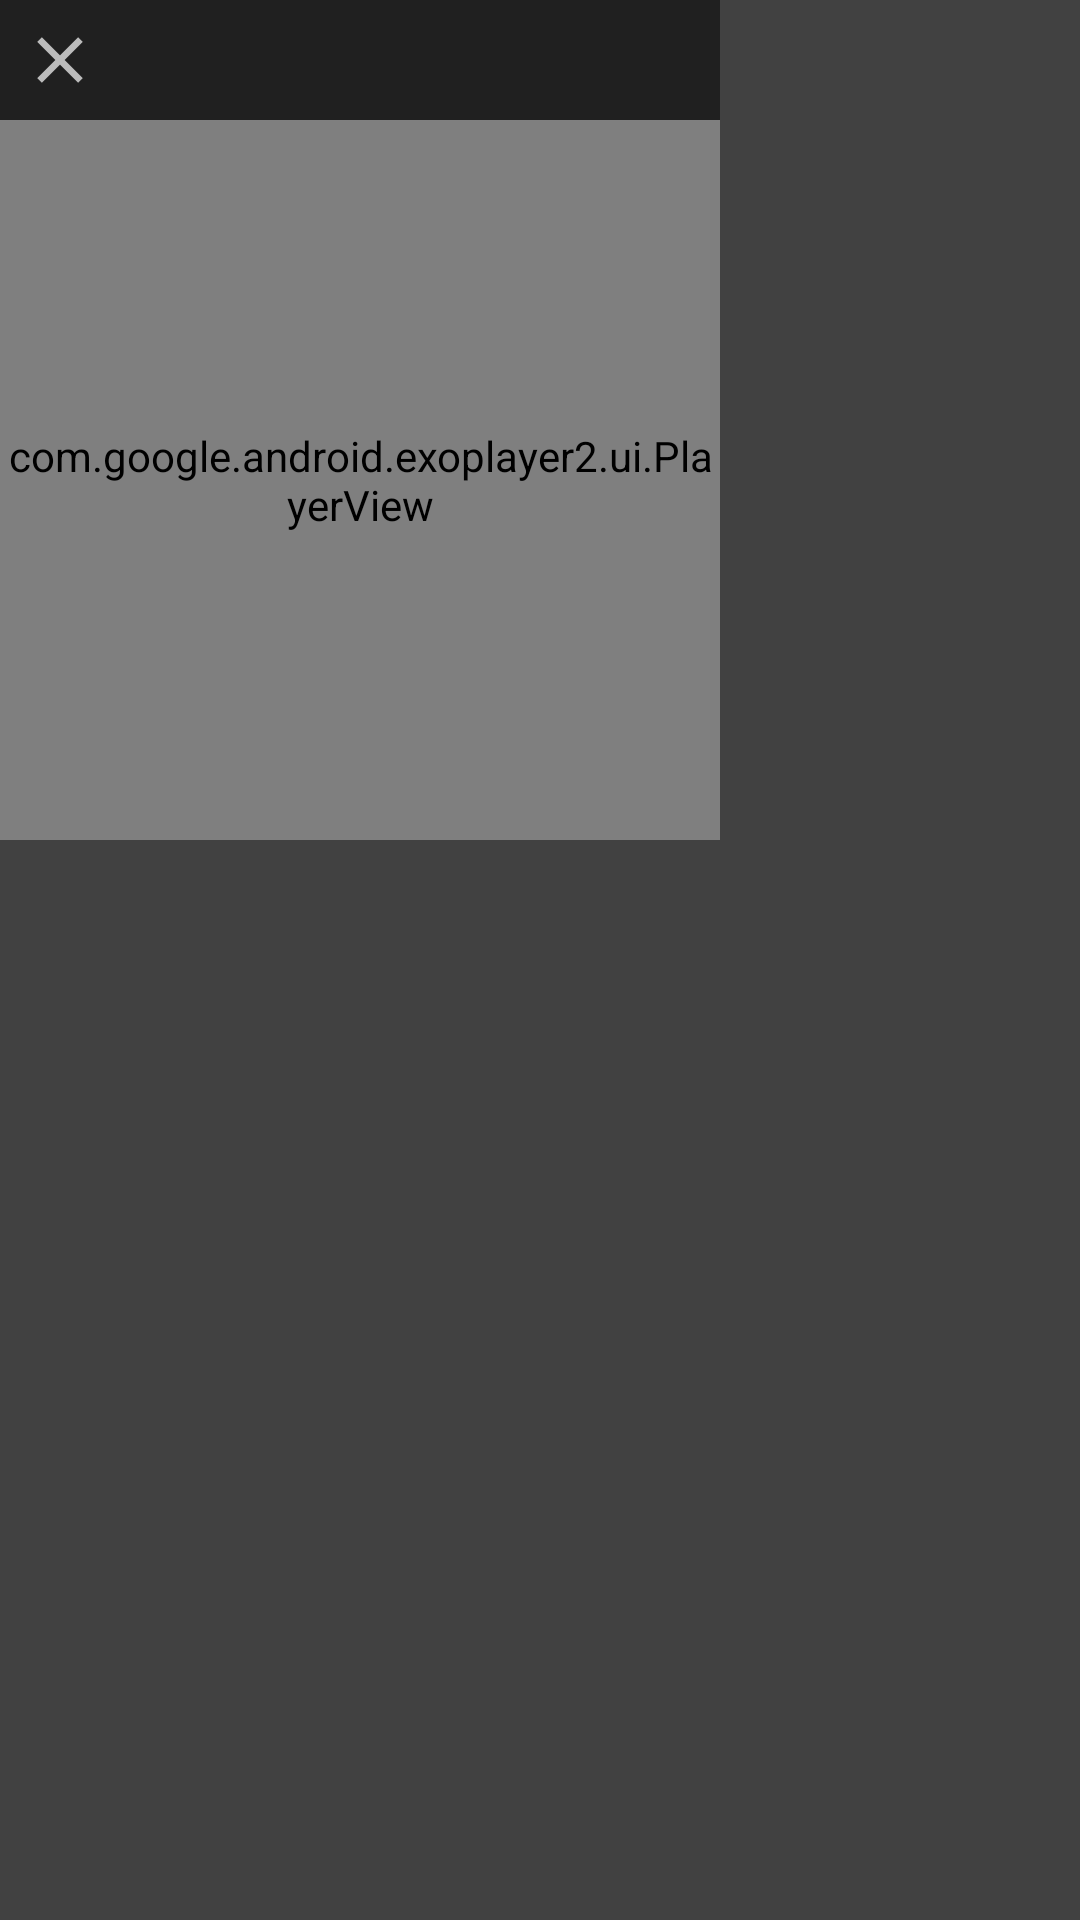

Named icons in this screenshot (1080px x 1920px) and their centers, (x=x, y=y):
close: (x=60, y=60)
